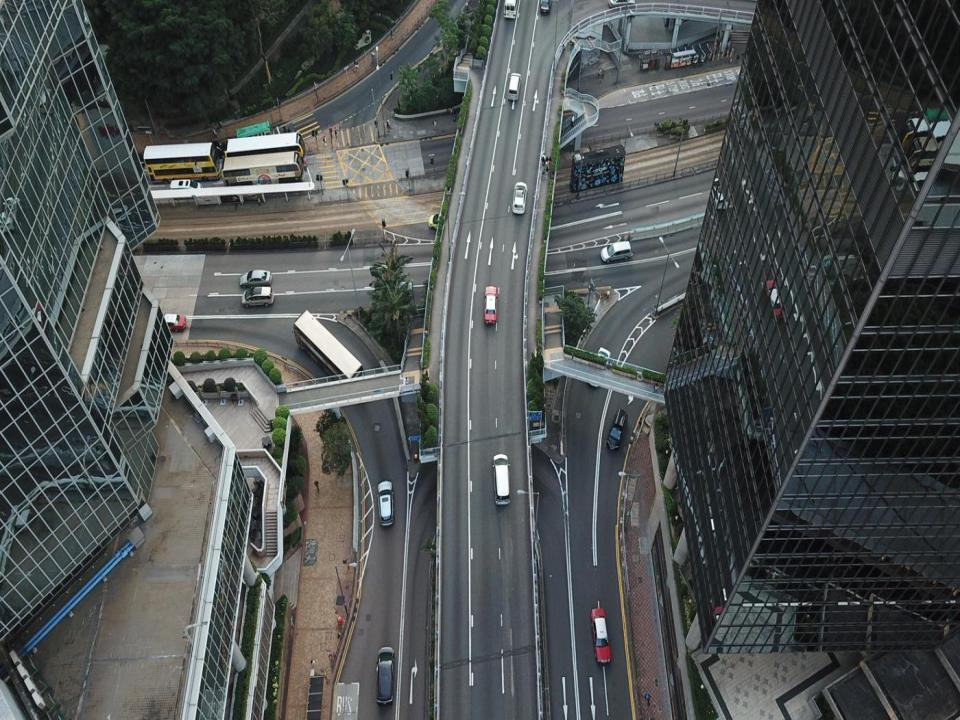bus: (295, 310, 365, 386), (141, 142, 218, 184), (222, 153, 307, 191), (229, 133, 307, 169), (570, 146, 625, 197)
car: (375, 644, 398, 706), (590, 603, 612, 665), (376, 476, 397, 530), (606, 406, 628, 455), (493, 452, 512, 506), (164, 176, 205, 200), (600, 238, 634, 262), (427, 210, 457, 232), (158, 310, 186, 332), (484, 283, 497, 328), (240, 269, 273, 286), (506, 70, 522, 103), (511, 177, 524, 216)
